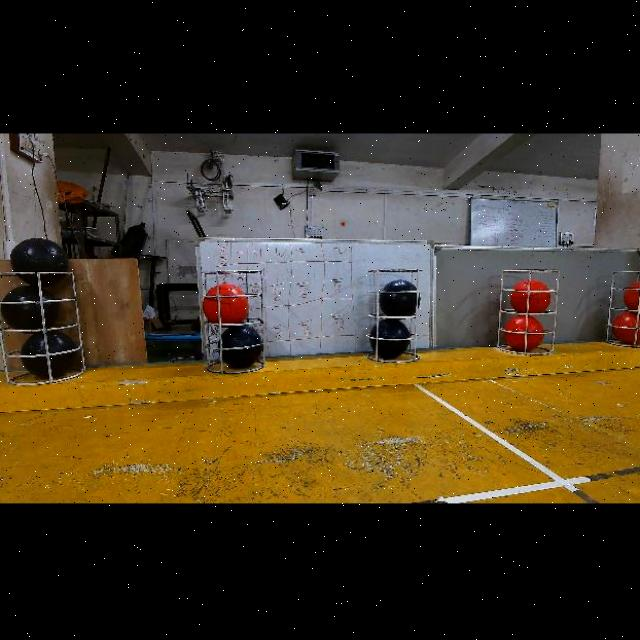P: (9, 237, 68, 286), (20, 331, 79, 378), (0, 283, 59, 329), (218, 324, 262, 368), (369, 318, 410, 358), (379, 279, 420, 316)
R: (203, 282, 249, 323), (504, 314, 545, 351), (510, 278, 551, 313), (612, 310, 640, 345), (623, 280, 640, 310)
S: (0, 259, 80, 389), (198, 268, 264, 370), (494, 266, 560, 354), (364, 265, 420, 363), (598, 262, 640, 348)
